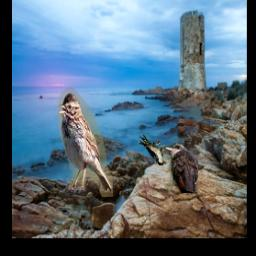Cuckoo: (165, 144, 199, 194)
Sparrow: (56, 89, 113, 198)
Swallow: (138, 134, 163, 165)
